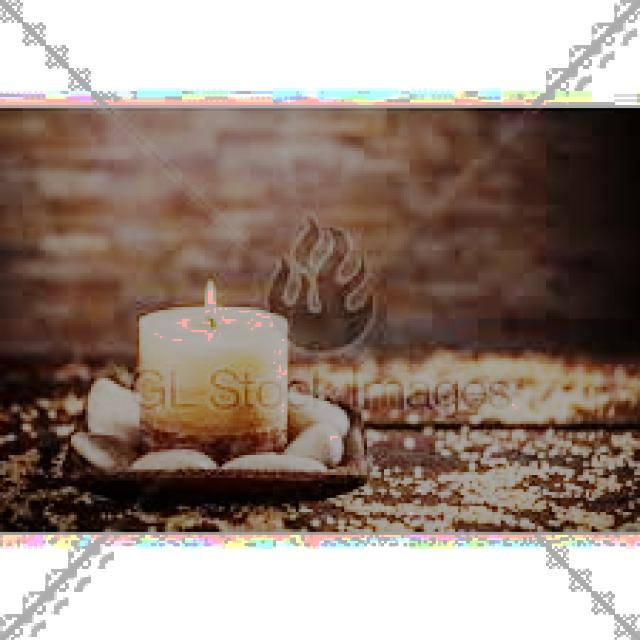api: (194, 271, 220, 325)
